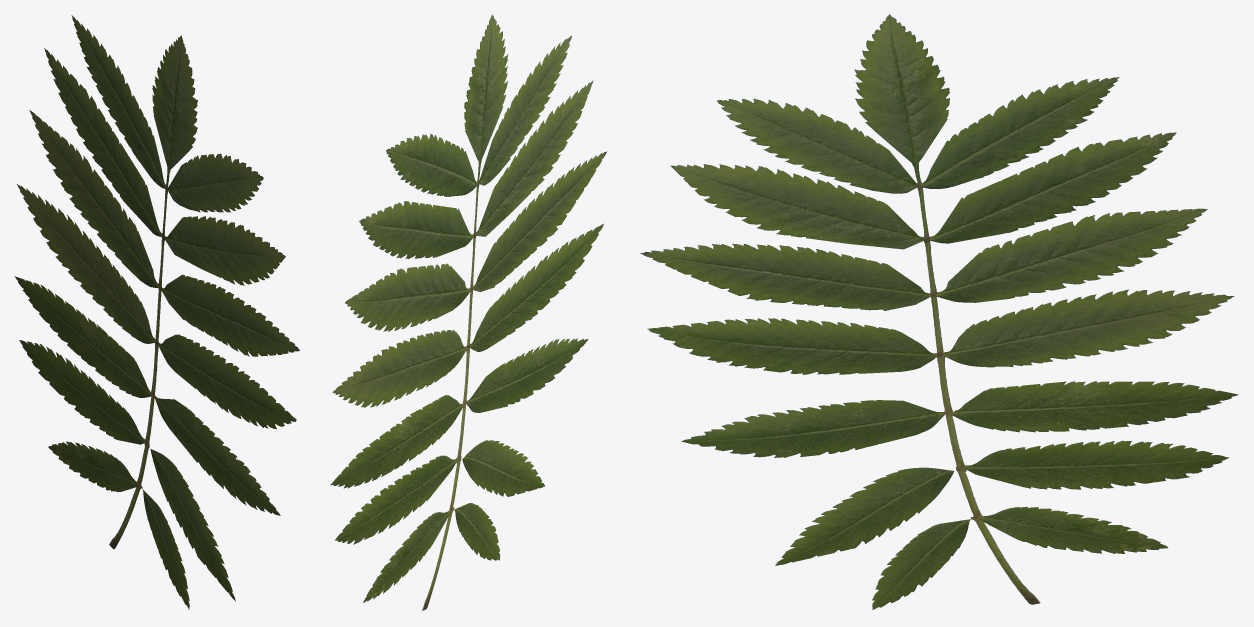
Rendered from leaf3.obj.
3 views of the same model, side by side, from view 1: azimuth 30°, elevation 25°; view 2: azimuth 150°, elevation 25°; view 3: azimuth 270°, elevation 25° (orthographic). The views are drawn at different scales.
Visible parts, largest first — view 1: Plane_Plane.001; view 2: Plane_Plane.001; view 3: Plane_Plane.001.
Boxes of the visible parts, x1,y1,x2,y2 form: Plane_Plane.001: (14, 15, 300, 609); Plane_Plane.001: (330, 14, 607, 610); Plane_Plane.001: (640, 14, 1238, 609).
Size of the model in its own units: 0 by 0.4574 by 0.4168.
Materials: 1 (1 with a texture image).
